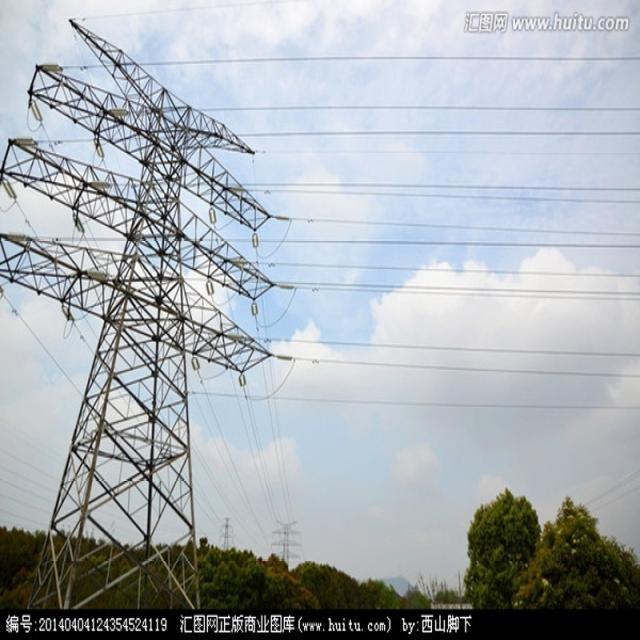non-critical vegetation: (10, 44, 258, 611)
